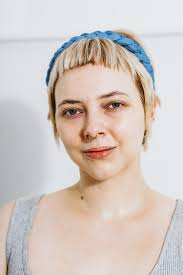Human_Female: (49, 37, 148, 275)
